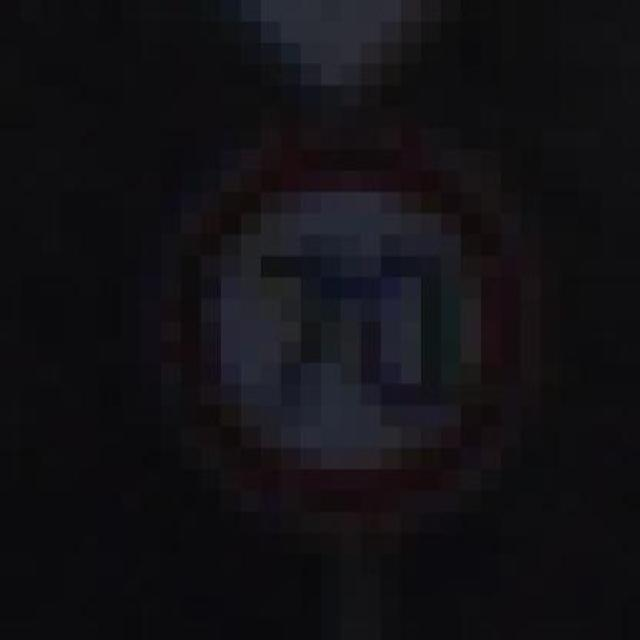forb_speed_over_70: (164, 139, 522, 513)
